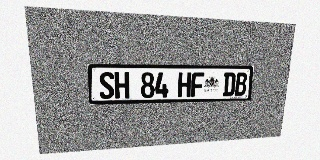4: (155, 72, 169, 98)
8: (141, 72, 155, 98)
B: (234, 72, 248, 96)
D: (222, 72, 236, 96)
F: (191, 72, 204, 97)
H: (114, 72, 129, 99), (178, 72, 191, 97)
S: (98, 72, 114, 99)
